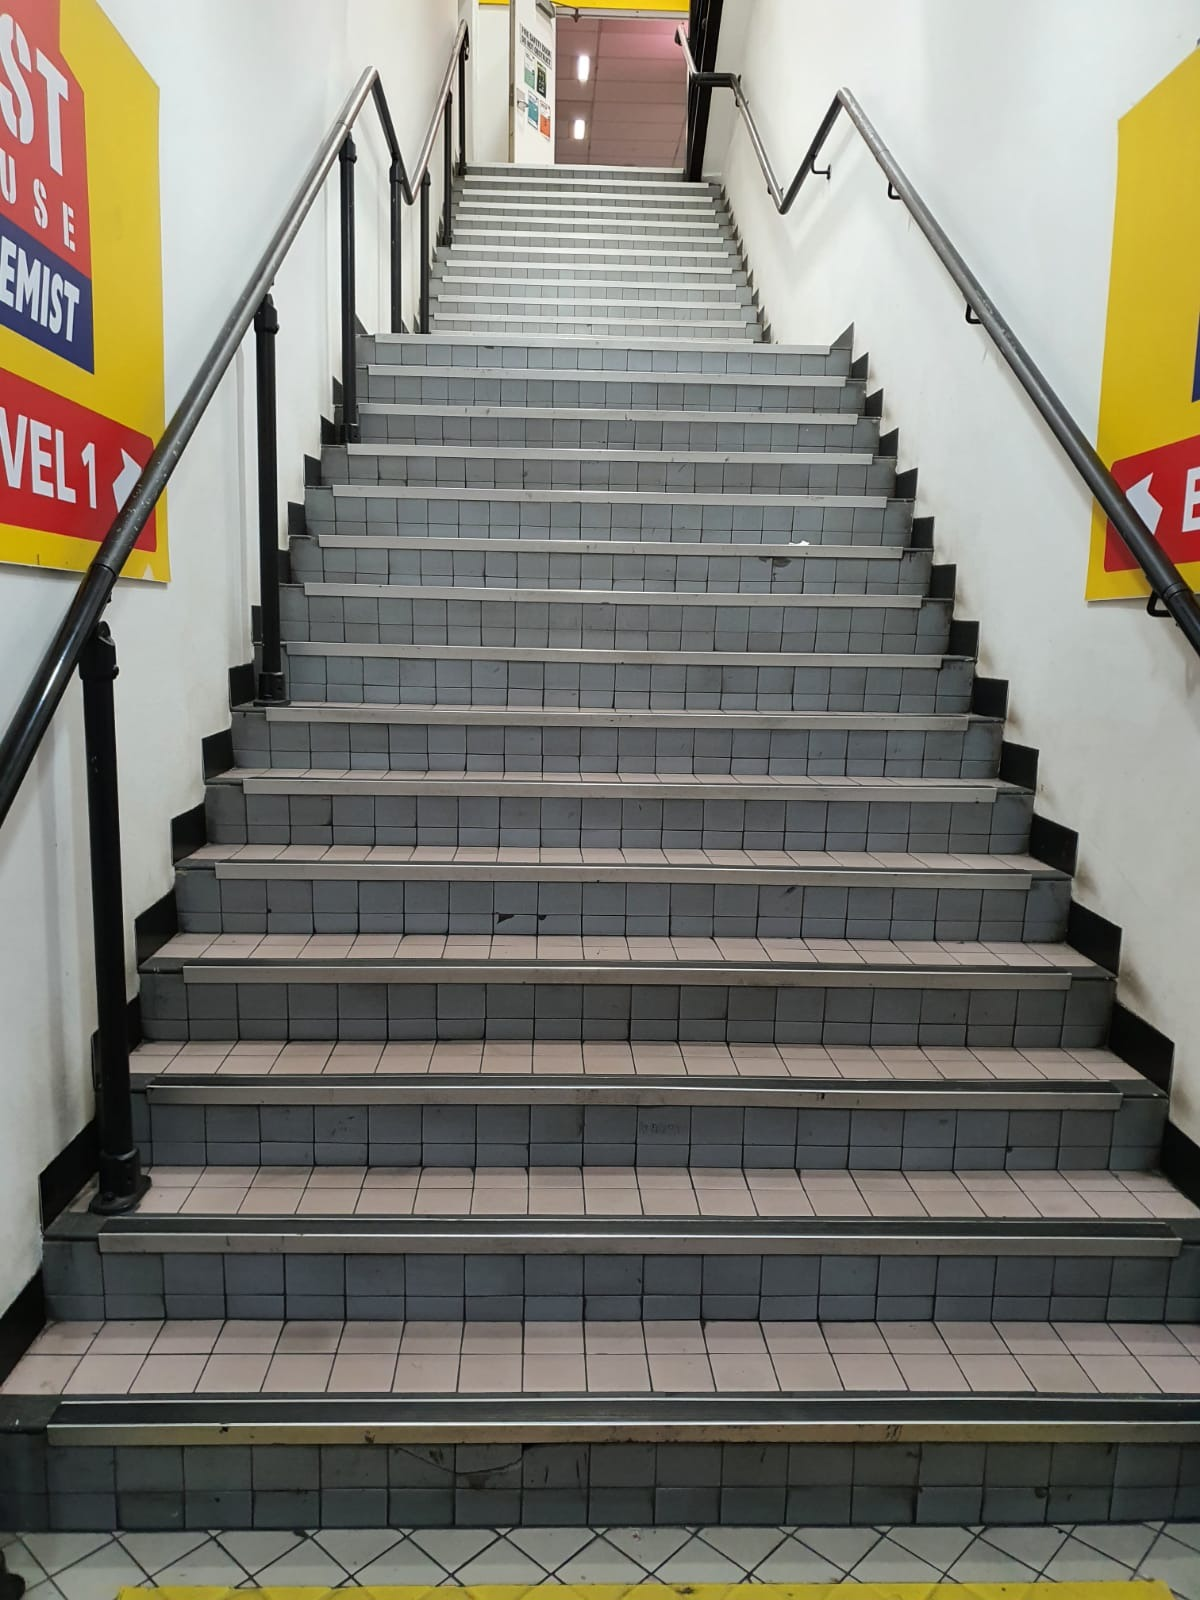upstairs: (170, 1010, 1131, 1600)
